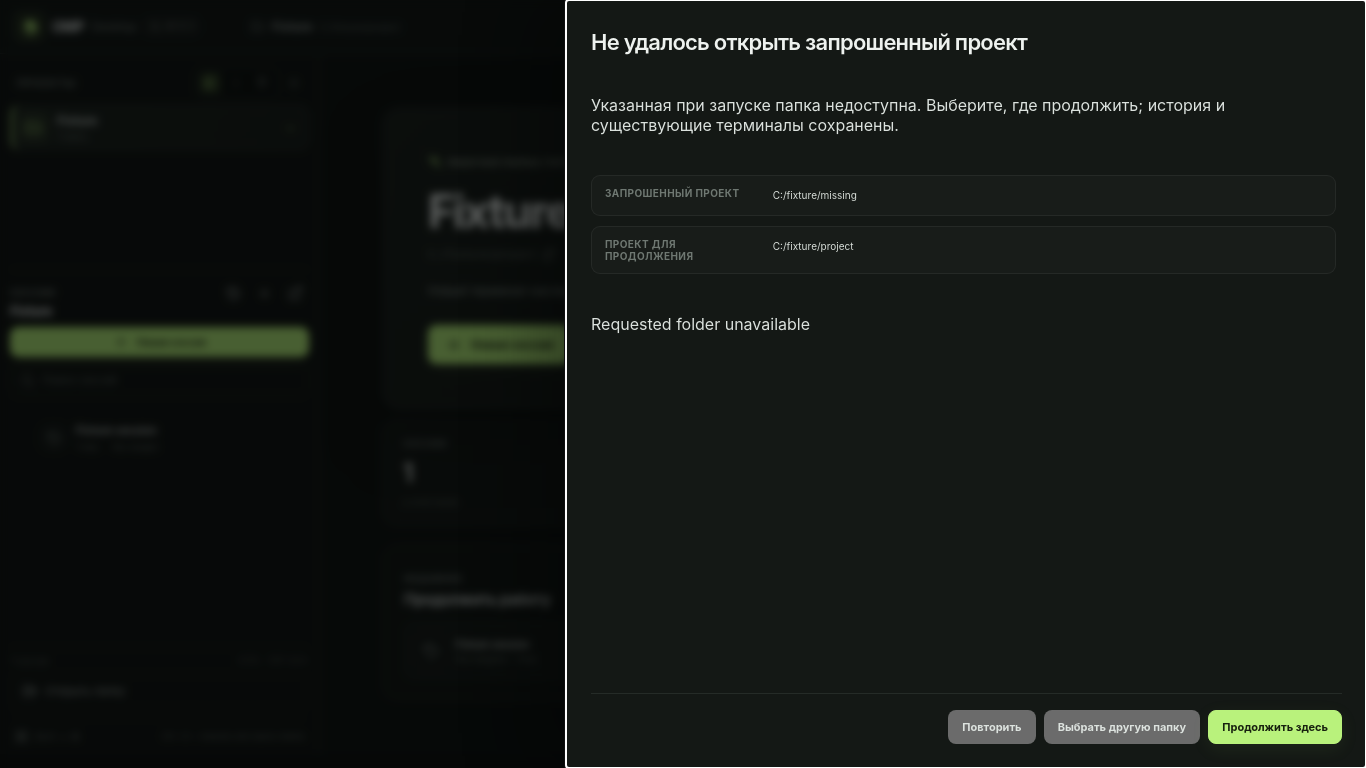
Test: App lifecycle serialization › keeps startup recovery actionable after Continue rejects
The width and height of the screenshot is (1366, 768).
Click the button "Продолжить здесь" at (1275, 727), box [1208,710,1342,744]
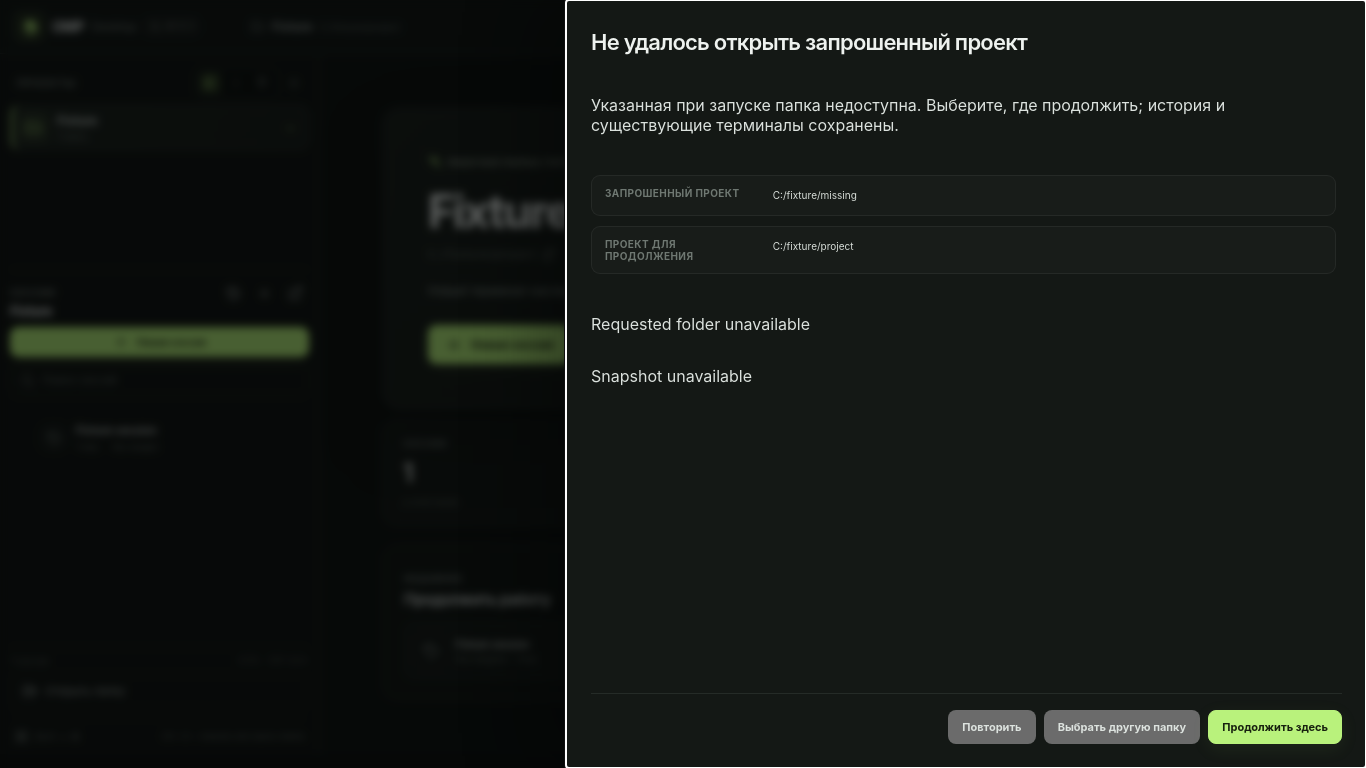
Expected: the dialog is shown, [566,0,1365,767]
Expected: the dialog shows "Snapshot unavailable", [591,366,752,386]
